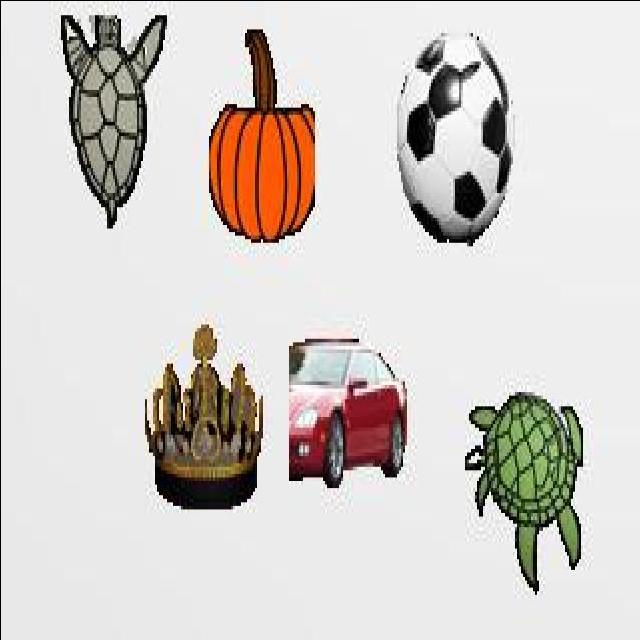Other Objects: (142, 320, 264, 510)
